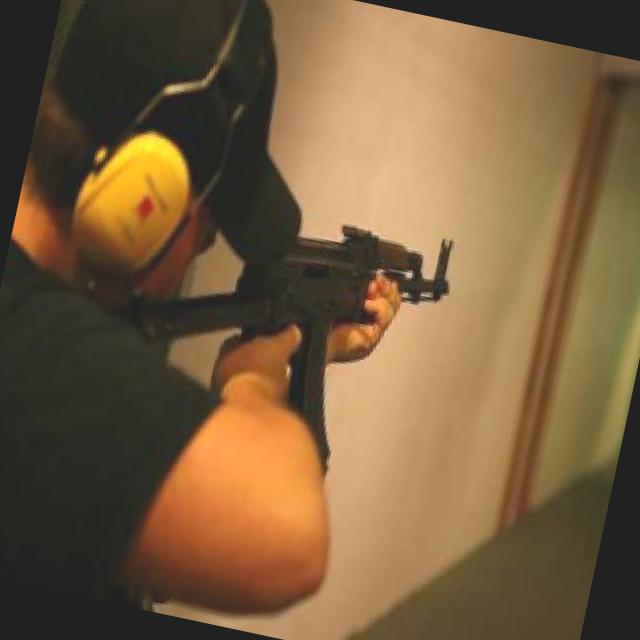long weapon: (218, 204, 482, 408)
